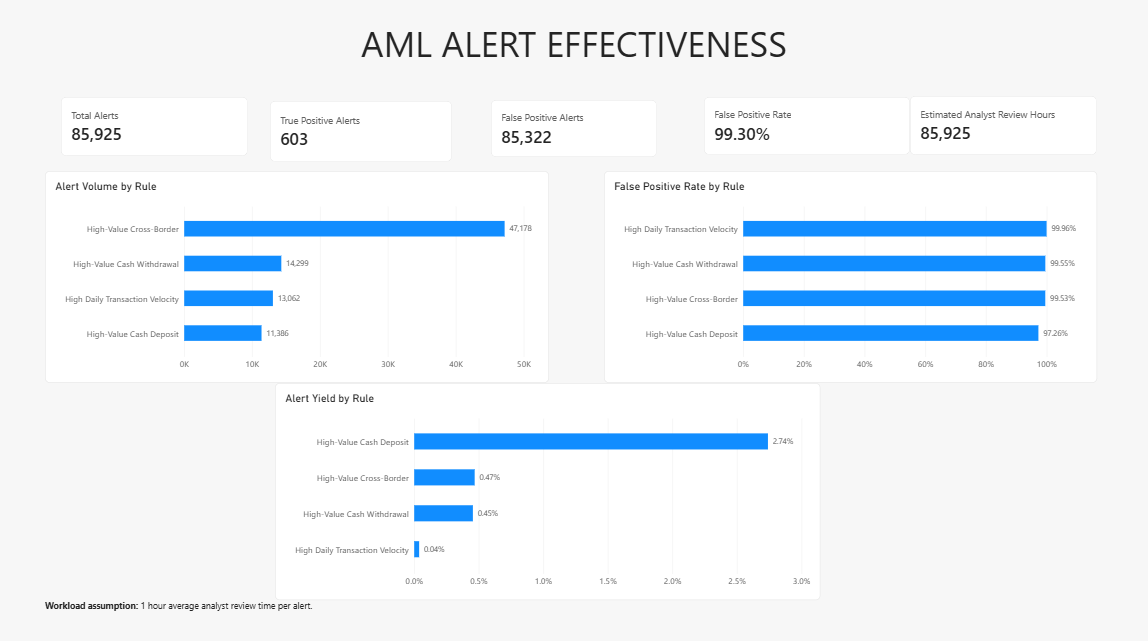

Layout of this report page (visuals, bound fields, positions):
{"tool":"powerbi","page":{"name":"Executive Overview","canvas":[1920,1080],"ordinal":0},"visuals":[{"type":"textbox","box":[603.3,38.3,711.7,78.3],"z":0},{"type":"cardVisual","fields":{"Data":["public alerts.Total Alerts"]},"box":[103.3,168.4,311.7,98.3],"z":1000},{"type":"cardVisual","fields":{"Data":["public alerts.True Positive Alerts"]},"box":[451.4,175.2,303.3,101.7],"z":2000},{"type":"cardVisual","fields":{"Data":["public alerts.False Positive Alerts"]},"box":[819.6,172.9,276.7,95],"z":3000},{"type":"cardVisual","fields":{"Data":["public alerts.False Positive Rate"]},"box":[1174.5,168.4,343.3,96.7],"z":4000},{"type":"cardVisual","fields":{"Data":["public alerts.Estimated Review Hours"]},"box":[1518,166.2,311.7,98.3],"z":5000},{"type":"clusteredBarChart","title":"Alert Volume by Rule","fields":{"Category":["public monitoring_rules.rule_name"],"Y":["public alerts.Total Alerts"]},"box":[76.7,291.7,840,353.3],"z":6000},{"type":"clusteredBarChart","title":"False Positive Rate by Rule","fields":{"Category":["public monitoring_rules.rule_name"],"Y":["public alerts.False Positive Rate"]},"box":[1008.3,291.7,821.7,353.3],"z":7000},{"type":"clusteredBarChart","title":"Alert Yield by Rule","fields":{"Category":["public monitoring_rules.rule_name"],"Y":["public alerts.Alert Yield"]},"box":[460.4,644.5,909.5,361.5],"z":8000},{"type":"textbox","box":[76.7,1005,450,36.7],"z":9000}]}

Visuals, with their boxes in screenshot pixels (x1, y1, x2, y2), scaled from the page's 1920x1080 canvas onto the 1148x641 screenshot:
textbox: box=[361, 23, 786, 69]
cardVisual - public alerts.Total Alerts: box=[62, 100, 248, 158]
cardVisual - public alerts.True Positive Alerts: box=[270, 104, 451, 164]
cardVisual - public alerts.False Positive Alerts: box=[490, 103, 655, 159]
cardVisual - public alerts.False Positive Rate: box=[702, 100, 908, 157]
cardVisual - public alerts.Estimated Review Hours: box=[908, 99, 1094, 157]
"Alert Volume by Rule" clusteredBarChart: box=[46, 173, 548, 383]
"False Positive Rate by Rule" clusteredBarChart: box=[603, 173, 1094, 383]
"Alert Yield by Rule" clusteredBarChart: box=[275, 383, 819, 597]
textbox: box=[46, 596, 315, 618]
